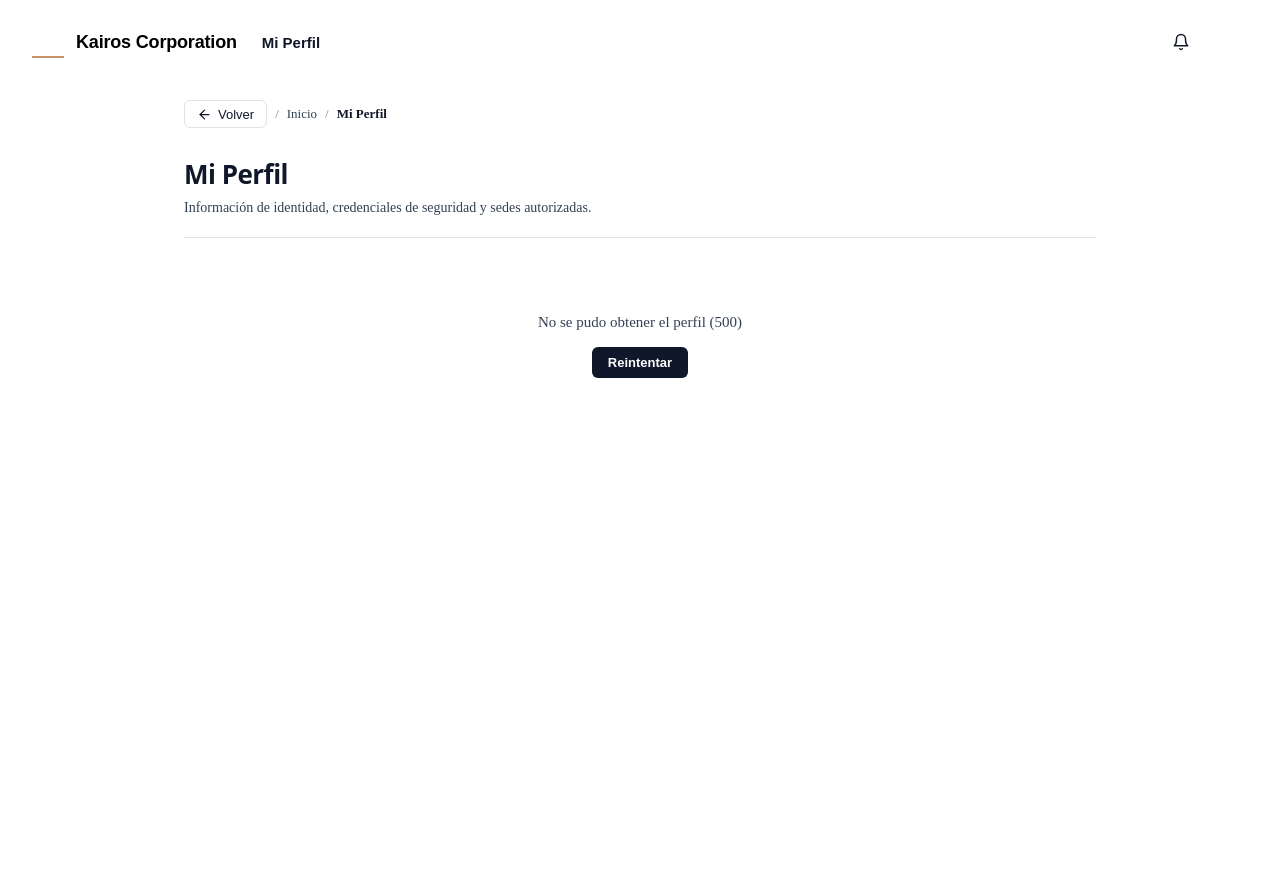
UserProfileScreen (TR-09) › muestra estado ERROR con reintento cuando el backend falla (sin datos de relleno)
Expected: the message shows "No se pudo obtener el perfil (500)", [538, 314, 742, 330]
Expected: the text "Identidad del Usuario" is not shown
Click the button "Reintentar".
click(640, 363)  # box [592, 347, 688, 378]
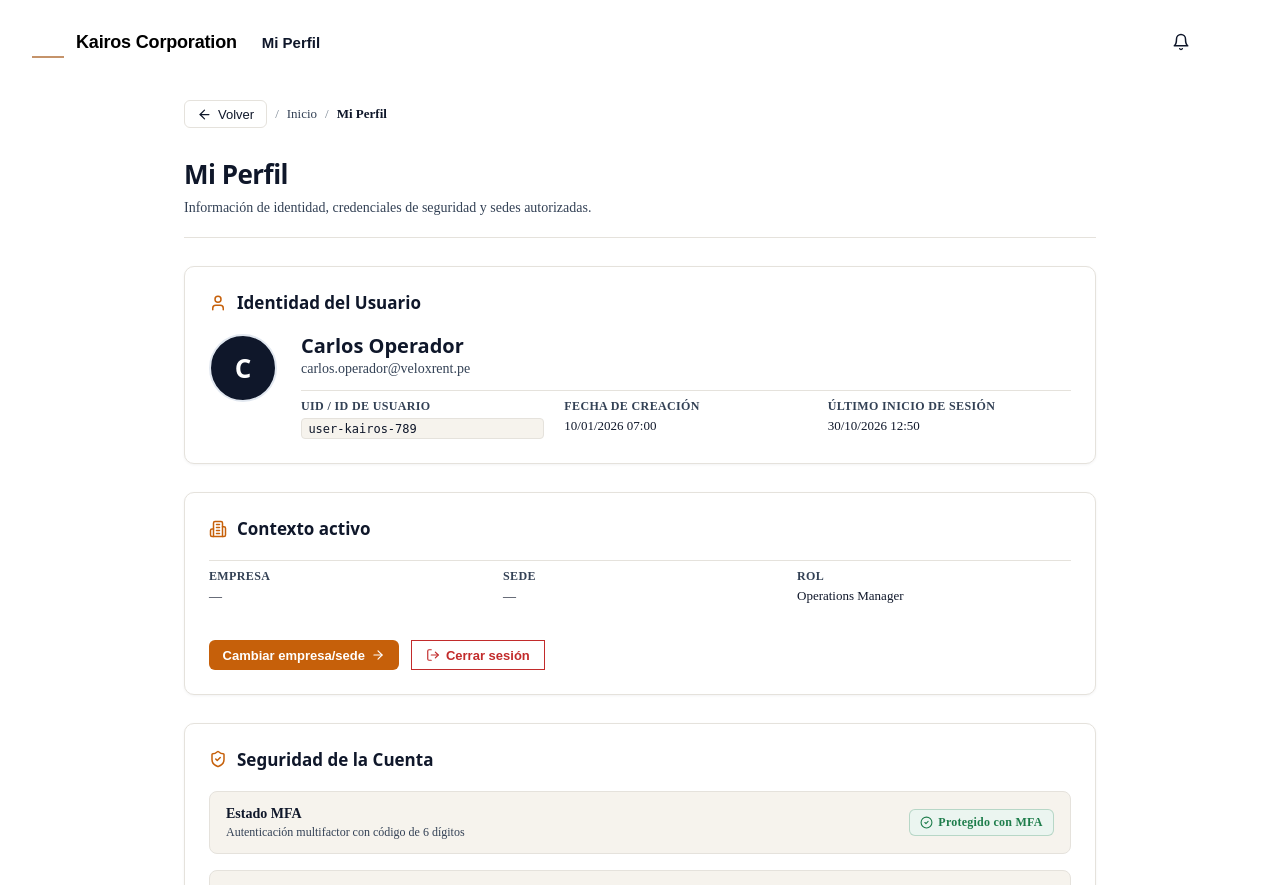
Expected: the heading "Carlos Operador" is shown, [301, 332, 464, 359]
